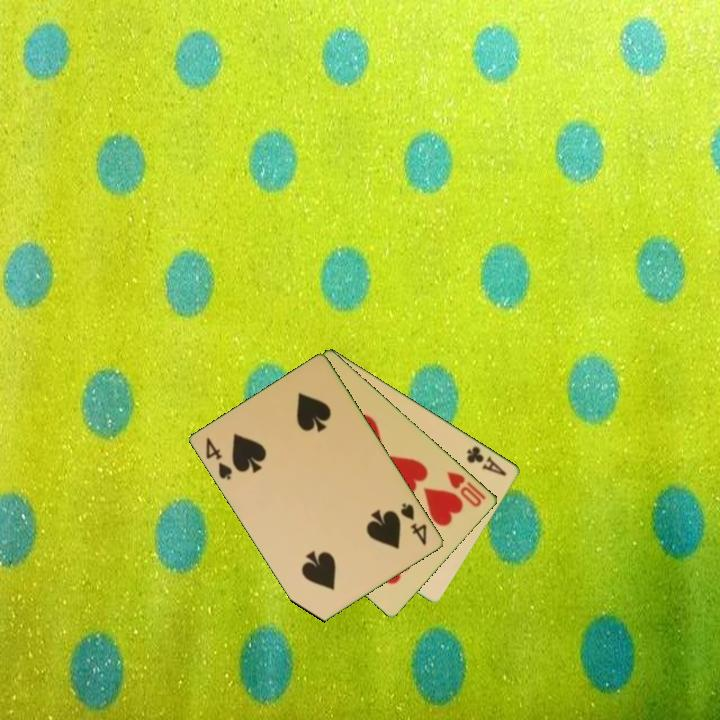10h: (444, 468, 489, 510)
4s: (397, 499, 430, 549), (203, 434, 236, 483)
Ac: (463, 442, 510, 479)
